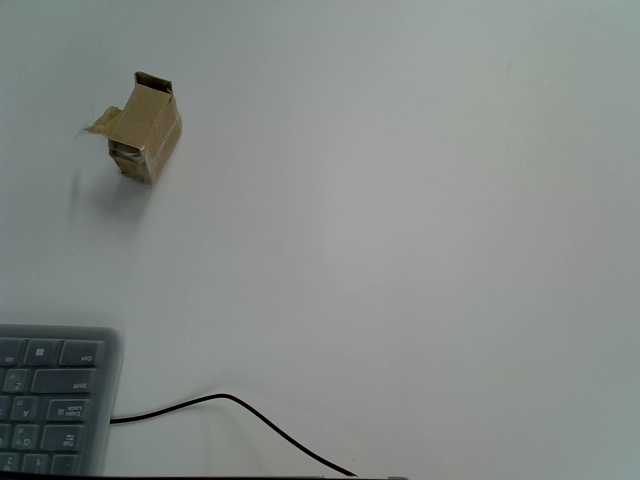defect: (76, 71, 184, 186)
